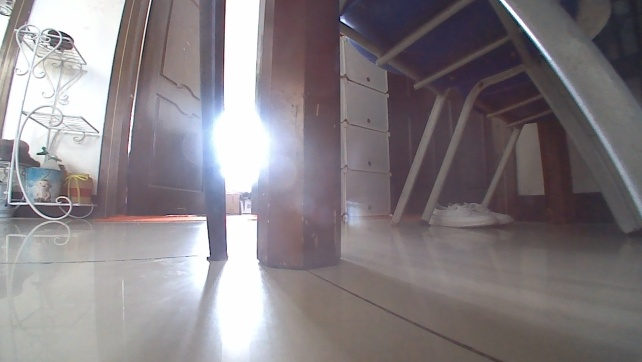blanket: (97, 212, 205, 225)
door_anno: (121, 0, 211, 218)
shoe: (425, 199, 515, 230)
